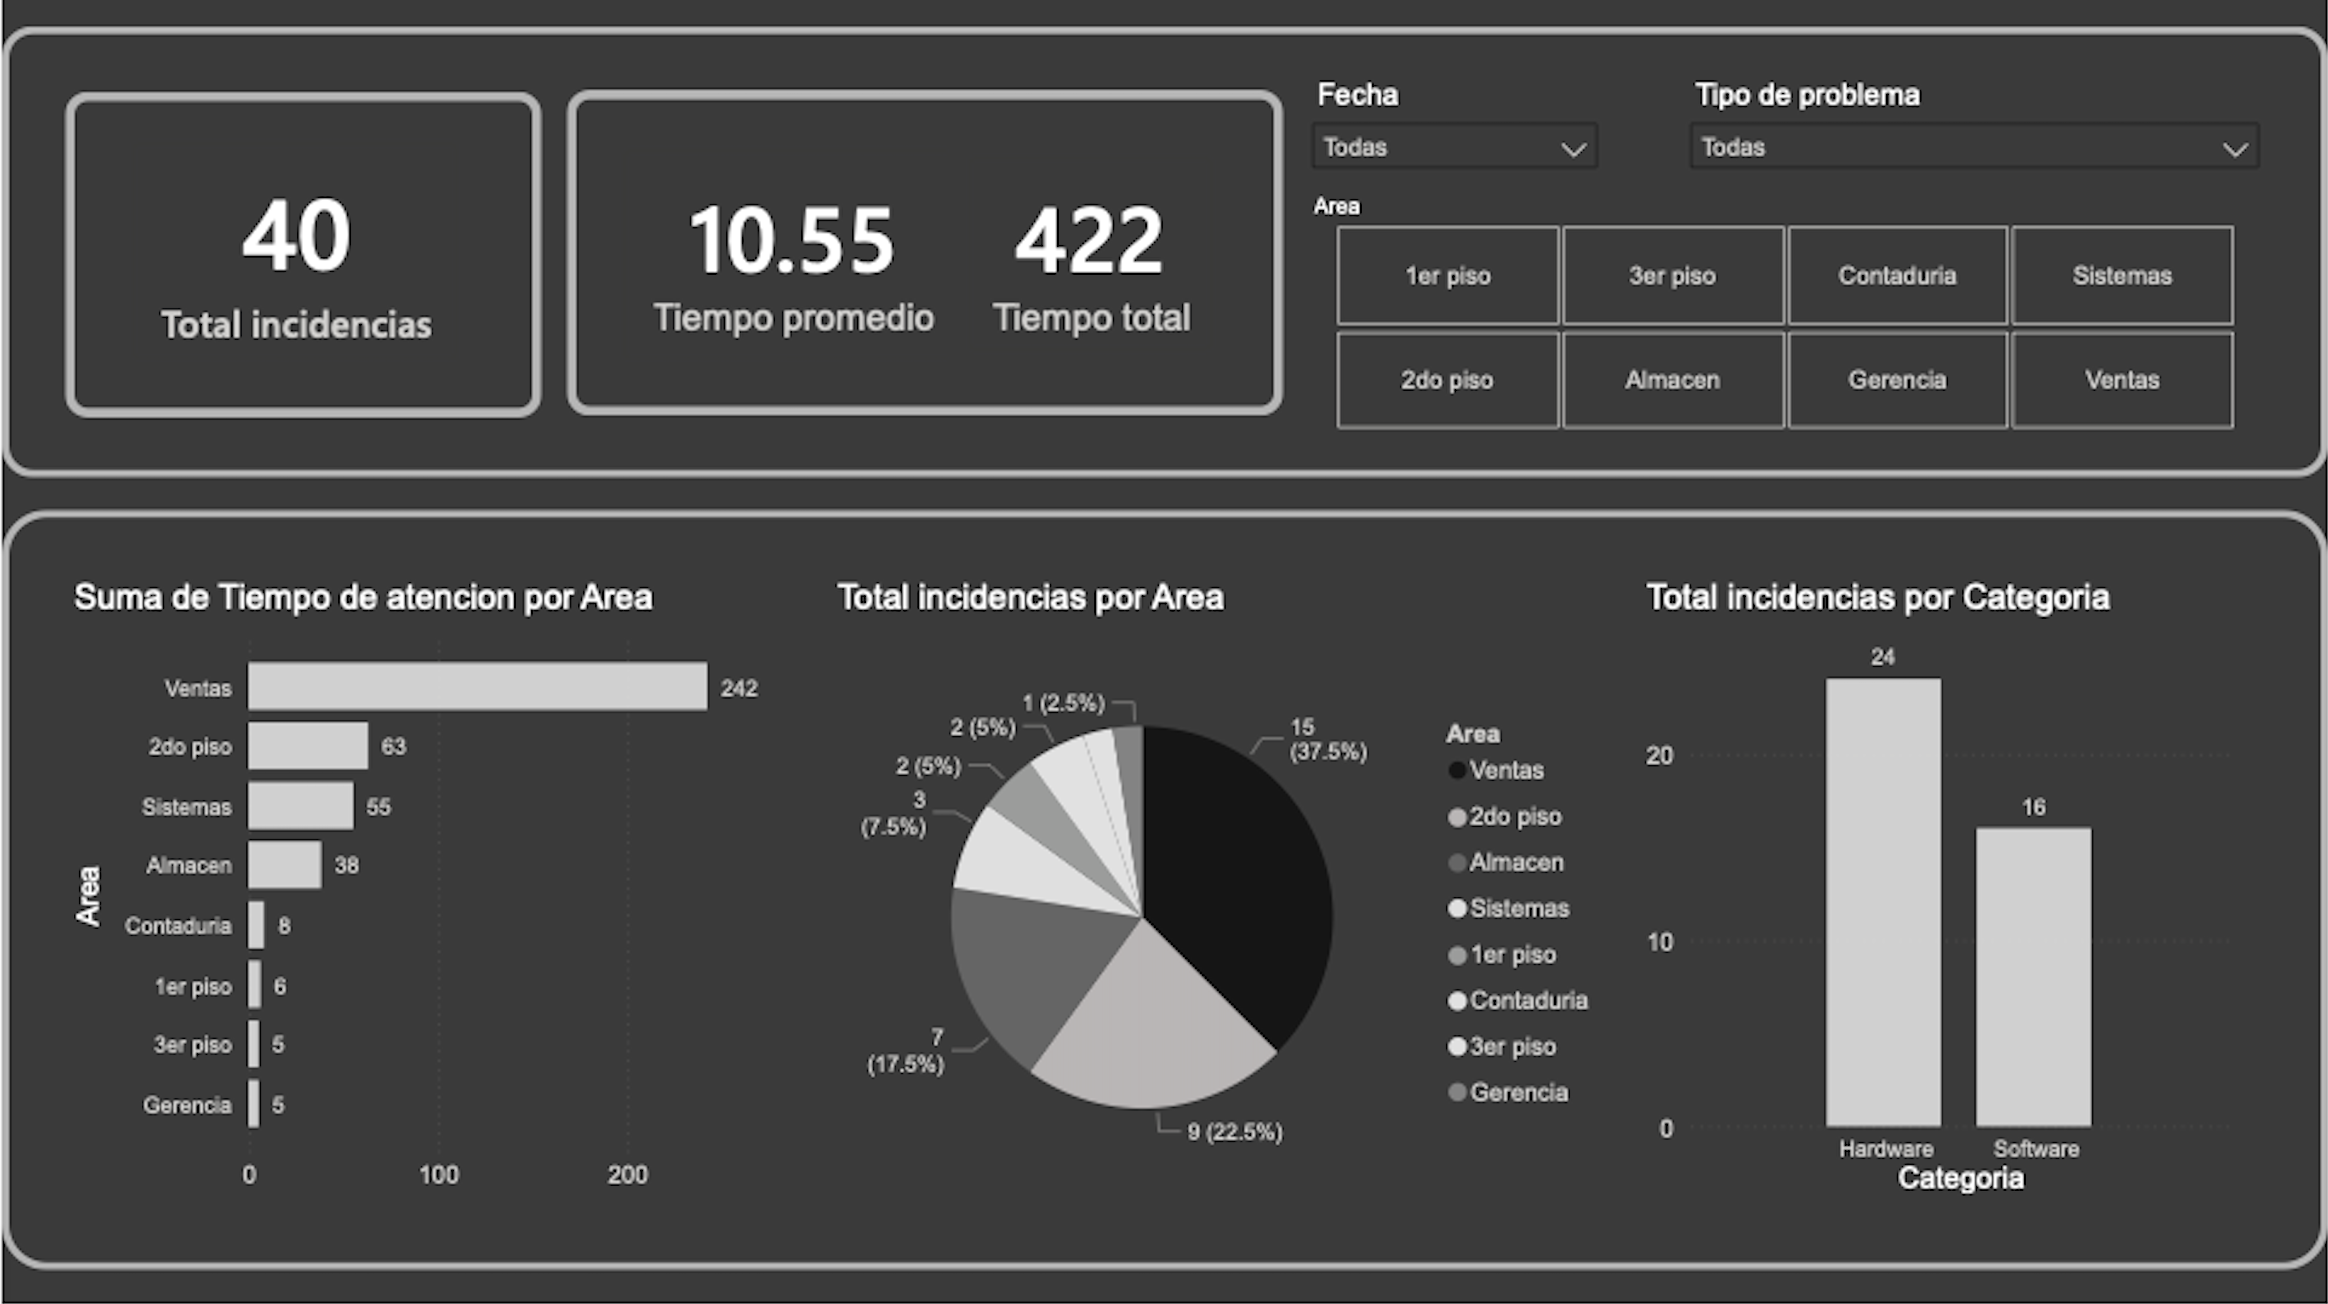

The page's visual inventory and layout, read from the dashboard file:
{"tool":"powerbi","page":{"name":"Resumen","canvas":[1280,720],"ordinal":0},"visuals":[{"type":"shape","box":[310.7,52,394.7,178.7],"z":0},{"type":"shape","box":[0,17.4,1280.3,247.7],"z":1000},{"type":"shape","box":[34.7,53.2,262.8,178.3],"z":2000},{"type":"cardVisual","fields":{"Data":["td_incidencias.Total incidencias"]},"box":[54.7,64,213.3,153.3],"z":3000},{"type":"cardVisual","title":"Min","fields":{"Data":["td_incidencias.Tiempo promedio"]},"box":[325.3,68,220,149.3],"z":4000},{"type":"cardVisual","fields":{"Data":["td_incidencias.Tiempo total"]},"box":[514.7,72,168,140],"z":5000},{"type":"shape","box":[0,282.7,1280,418.7],"z":6000},{"type":"clusteredBarChart","fields":{"Category":["td_incidencias.AREA"],"Y":["Sum(td_incidencias.Tiempo de atencion)"]},"box":[34.7,320,401.3,344],"z":7000},{"type":"pieChart","fields":{"Category":["td_incidencias.Area"],"Y":["td_incidencias.Total incidencias"]},"box":[454.7,320,433.3,353.3],"z":8000},{"type":"clusteredColumnChart","fields":{"Category":["td_incidencias.CATEGORIA"],"Y":["td_incidencias.Total incidencias"]},"box":[900,320,332,344],"z":9000},{"type":"slicer","fields":{"Values":["td_incidencias.FECHA"]},"box":[710.7,40,177.3,64],"z":10000},{"type":"slicer","fields":{"Values":["td_incidencias.Area"]},"box":[709.3,104,542.7,141.3],"z":11000},{"type":"slicer","fields":{"Values":["td_incidencias.Tipo de problema"]},"box":[918.7,40,333.3,76],"z":12000}]}

Visuals, with their boxes in screenshot pixels (x1, y1, x2, y2), scaled from the page's 1280x720 canvas onto the 2328x1304 screenshot:
shape: 565,94,1283,418
shape: 0,32,2327,480
shape: 63,96,541,419
cardVisual - td_incidencias.Total incidencias: 99,116,487,394
"Min" cardVisual: 592,123,992,394
cardVisual - td_incidencias.Tiempo total: 936,130,1242,384
shape: 0,512,2327,1270
clusteredBarChart - td_incidencias.AREA x Sum(td_incidencias.Tiempo de atencion): 63,580,793,1203
pieChart - td_incidencias.Area x td_incidencias.Total incidencias: 827,580,1615,1219
clusteredColumnChart - td_incidencias.CATEGORIA x td_incidencias.Total incidencias: 1637,580,2241,1203
slicer - td_incidencias.FECHA: 1293,72,1615,188
slicer - td_incidencias.Area: 1290,188,2277,444
slicer - td_incidencias.Tipo de problema: 1671,72,2277,210
